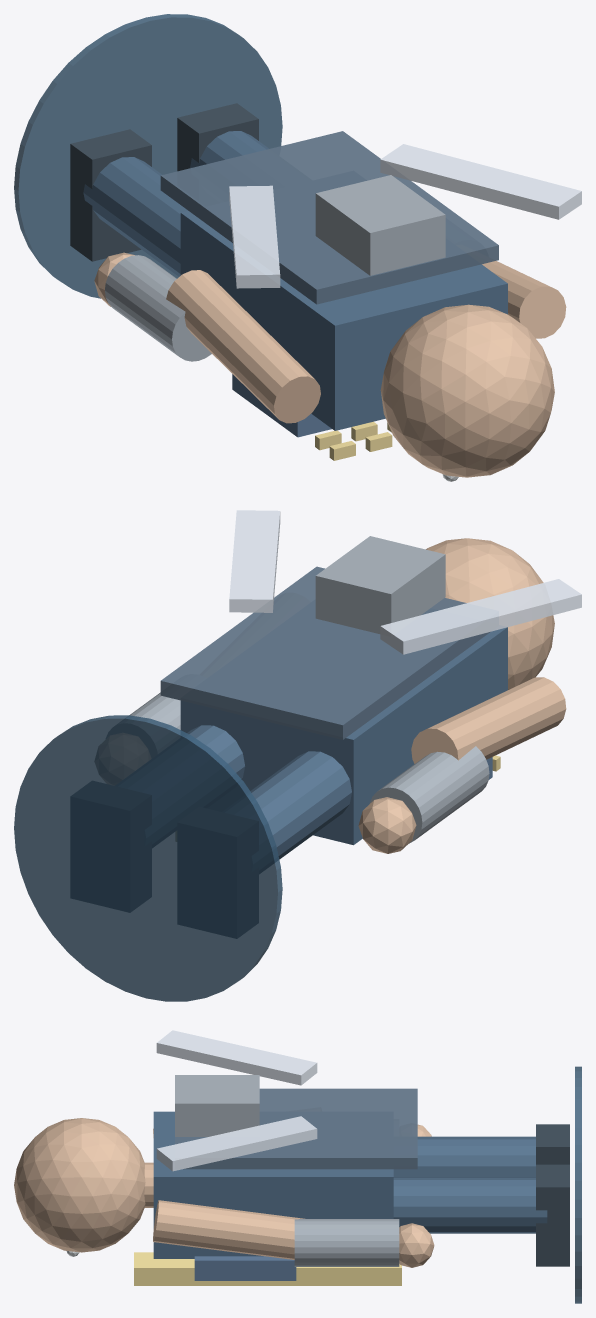
The model's file is SW_NPC_049_mora_sparkline.glb.
3 renders of one model, top to bottom at view 1: azimuth 30°, elevation 25°; view 2: azimuth 150°, elevation 25°; view 3: azimuth 270°, elevation 25°, orthographic. The views are drawn at different scales.
Visible parts, largest first — view 1: round_base_plate, head, torso_uniform, storm_cloak, left_upper_arm, wingpack_core, left_leg, right_wing_rig, left_forearm_gauntlet, left_boot, left_wing_rig, right_upper_arm (+4 smaller); view 2: round_base_plate, storm_cloak, torso_uniform, wingpack_core, head, left_upper_arm, left_wing_rig, left_leg, left_forearm_gauntlet, right_wing_rig, left_hand, right_leg (+1 smaller); view 3: head, torso_uniform, storm_cloak, right_leg, right_upper_arm, left_leg, right_forearm_gauntlet, wingpack_core, rank_sash, right_wing_rig, left_wing_rig, right_boot (+5 smaller).
Boxes of the visible parts, x1=… form: round_base_plate: x1=14, y1=14, x2=282, y2=298; head: x1=380, y1=304, x2=554, y2=477; torso_uniform: x1=180, y1=211, x2=507, y2=430; storm_cloak: x1=160, y1=131, x2=498, y2=304; left_upper_arm: x1=166, y1=270, x2=320, y2=423; wingpack_core: x1=315, y1=175, x2=445, y2=275; left_leg: x1=83, y1=157, x2=188, y2=276; right_wing_rig: x1=380, y1=144, x2=581, y2=219; left_forearm_gauntlet: x1=105, y1=255, x2=211, y2=361; left_boot: x1=70, y1=129, x2=151, y2=261; left_wing_rig: x1=229, y1=185, x2=280, y2=288; right_upper_arm: x1=482, y1=261, x2=566, y2=338; round_base_plate: x1=14, y1=715, x2=282, y2=1001; storm_cloak: x1=160, y1=566, x2=490, y2=739; torso_uniform: x1=180, y1=627, x2=507, y2=845; wingpack_core: x1=315, y1=536, x2=445, y2=633; head: x1=426, y1=538, x2=554, y2=689; left_upper_arm: x1=411, y1=677, x2=566, y2=763; left_wing_rig: x1=380, y1=579, x2=581, y2=654; left_leg: x1=250, y1=751, x2=351, y2=859; left_forearm_gauntlet: x1=369, y1=746, x2=489, y2=843; right_wing_rig: x1=229, y1=510, x2=280, y2=612; left_hand: x1=358, y1=797, x2=416, y2=853; right_leg: x1=187, y1=725, x2=244, y2=779; head: x1=14, y1=1118, x2=145, y2=1252; torso_uniform: x1=153, y1=1111, x2=393, y2=1258; storm_cloak: x1=175, y1=1088, x2=417, y2=1169; right_leg: x1=393, y1=1177, x2=547, y2=1233; right_upper_arm: x1=153, y1=1200, x2=304, y2=1259; left_leg: x1=393, y1=1136, x2=535, y2=1177; right_forearm_gauntlet: x1=294, y1=1219, x2=399, y2=1266; wingpack_core: x1=175, y1=1075, x2=259, y2=1136; rank_sash: x1=134, y1=1252, x2=401, y2=1285; right_wing_rig: x1=156, y1=1116, x2=317, y2=1171; left_wing_rig: x1=156, y1=1030, x2=317, y2=1085; right_boot: x1=536, y1=1164, x2=569, y2=1266.
Bounding box in the file's own units: 1.1 × 0.84 × 2.01.
